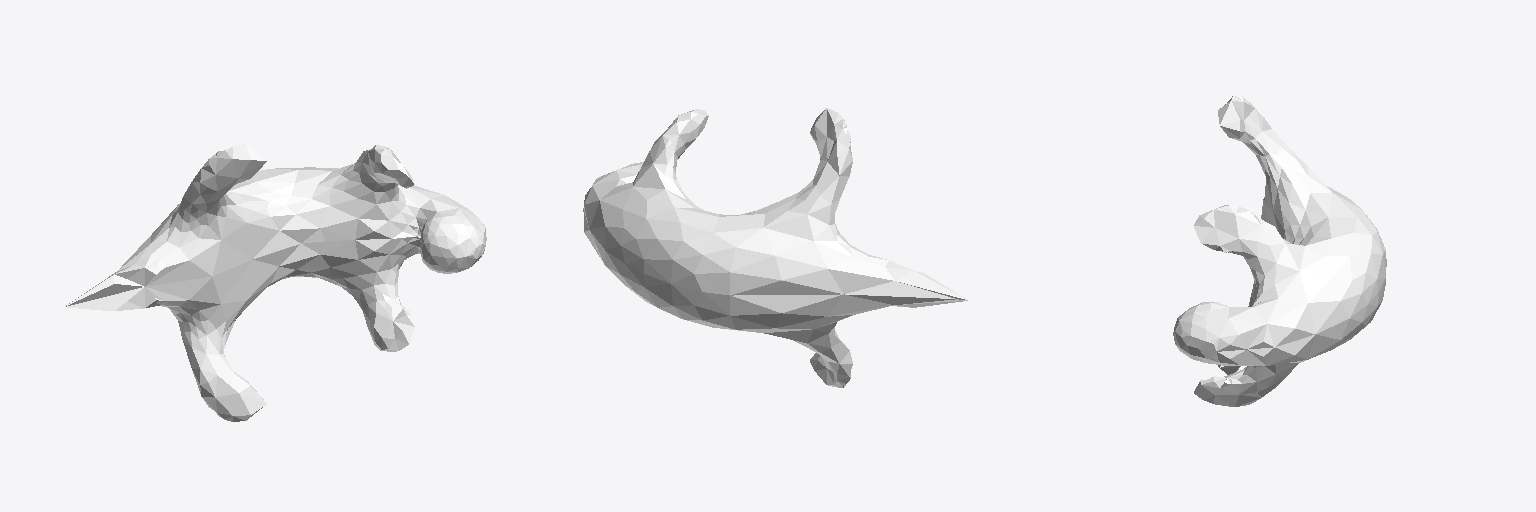
Rendered from otter-float.obj.
3 views of the same model, side by side, from view 1: azimuth 30°, elevation 25°; view 2: azimuth 150°, elevation 25°; view 3: azimuth 270°, elevation 25° (orthographic).
Visible parts, largest first — view 1: otter4-low-poly.obj; view 2: otter4-low-poly.obj; view 3: otter4-low-poly.obj.
Boxes of the visible parts, x1=… form: otter4-low-poly.obj: x1=65, y1=144, x2=486, y2=421; otter4-low-poly.obj: x1=583, y1=108, x2=968, y2=387; otter4-low-poly.obj: x1=1173, y1=95, x2=1386, y2=406.
Bounding box in the file's own units: 102 × 68.46 × 47.67.